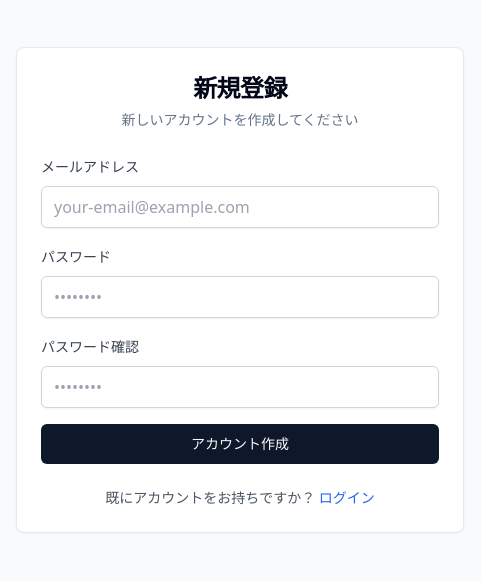
Test: SignUpPage › パスワード不一致エラー
The width and height of the screenshot is (481, 581).
Type "test@example.com" into the field labelled "メールアドレス". click: coordinates (240, 207)
box: [41, 186, 439, 228]
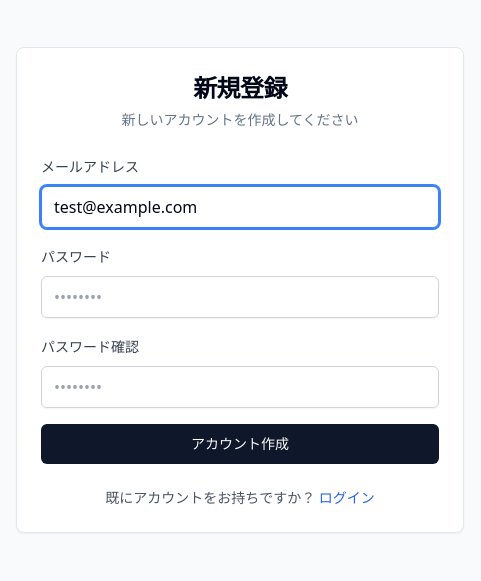
Type "password123" into the password field labelled "パスワード". click: coordinates (240, 297)
box: [41, 276, 439, 318]
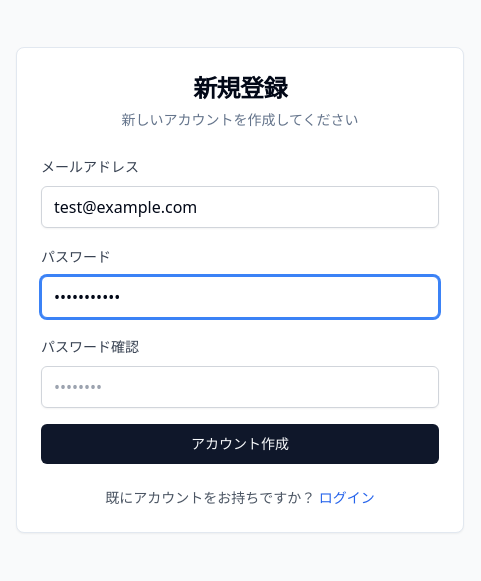
Type "differentpassword" into the password field labelled "パスワード確認". click: coordinates (240, 387)
box: [41, 366, 439, 408]
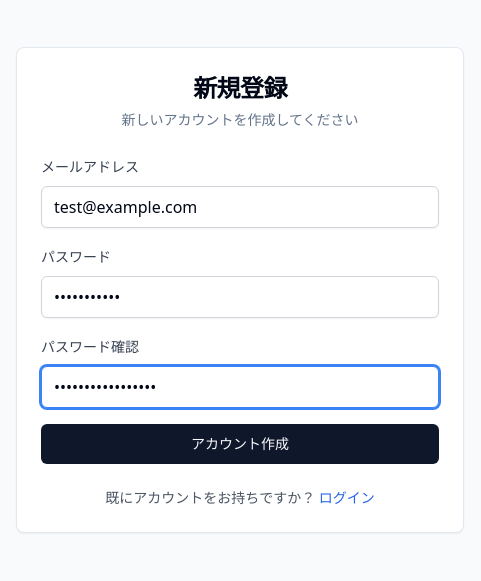
Click the button "アカウント作成". click: coordinates (240, 444)
box: [41, 424, 439, 464]
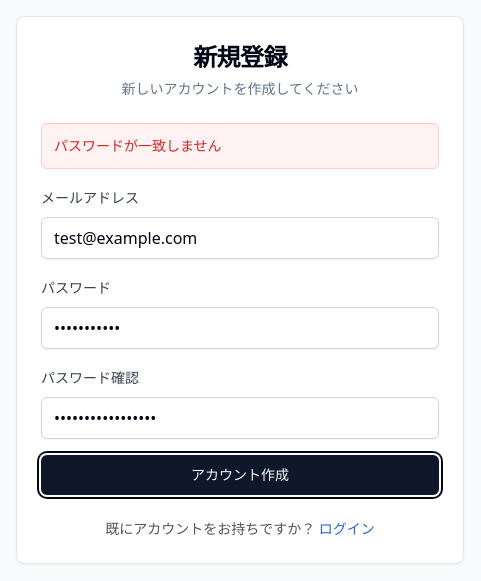
Expected: the text "パスワードが一致しません" is shown, [41, 123, 439, 169]
